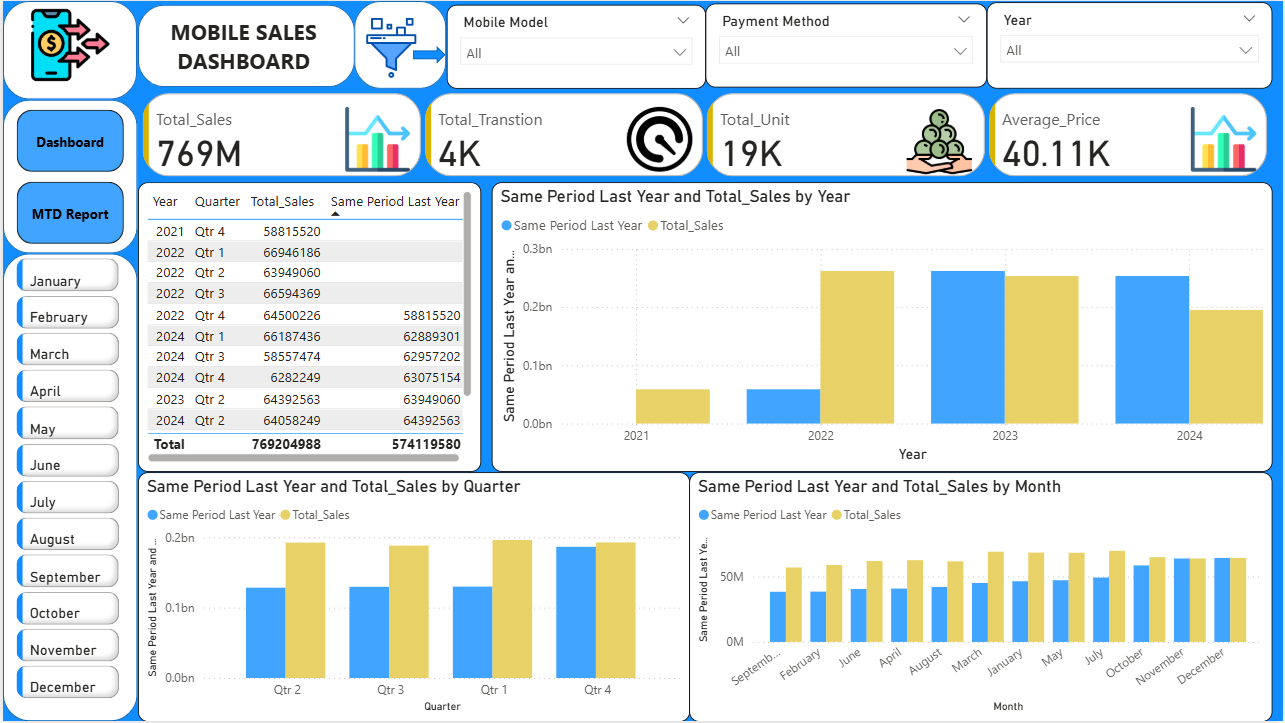

The page's visual inventory and layout, read from the dashboard file:
{"tool":"powerbi","page":{"name":"Same Period Last Year","canvas":[1280,720],"ordinal":2},"visuals":[{"type":"shape","box":[0,0,134.5,98.8],"z":0},{"type":"image","box":[13.7,0,107,87.8],"z":1000},{"type":"shape","box":[0,98.8,134.5,153.7],"z":2000},{"type":"cardVisual","fields":{"Data":["Sales_Data.Total_Sales","Sales_Data.Total_Transtion","Sales_Data.Total_Unit","Sales_Data.Average_Price"]},"box":[134.5,87.8,1134.8,93.3],"z":3000},{"type":"slicer","fields":{"Values":["Sales_Data.Mobile Model"]},"box":[443.2,4.1,259.3,83.7],"z":4000},{"type":"shape","box":[134.5,4.1,216.8,82.3],"z":5000},{"type":"slicer","fields":{"Values":["Sales_Data.Payment Method"]},"box":[702.6,2.7,281.3,83.7],"z":6000},{"type":"slicer","fields":{"Values":["Custom_Calender.Date.Variation.Date Hierarchy.Year"]},"box":[983.9,1.4,285.4,86.4],"z":7000},{"type":"shape","box":[351.3,0,91.9,87.8],"z":8000},{"type":"image","box":[348.5,11,79.6,71.4],"z":9000},{"type":"shape","box":[410.3,45.3,32.9,17.8],"z":10000},{"type":"textbox","box":[148.2,11,183.9,71.4],"z":11000},{"type":"shape","box":[0,252.5,134.5,467.9],"z":12000},{"type":"advancedSlicerVisual","fields":{"Values":["Custom_Calender.Date.Variation.Date Hierarchy.Month"]},"box":[8.2,252.5,112.5,458.3],"z":13000},{"type":"tableEx","fields":{"Values":["Custom_Calender.Date.Variation.Date Hierarchy.Year","Custom_Calender.Date.Variation.Date Hierarchy.Quarter","Sales_Data.Total_Sales","Sales_Data.Same Period Last Year"]},"box":[134.5,181.1,343.1,289.5],"z":14000},{"type":"clusteredColumnChart","fields":{"Category":["Custom_Calender.Date.Variation.Date Hierarchy.Year","Custom_Calender.Date.Variation.Date Hierarchy.Quarter"],"Y":["Sales_Data.Same Period Last Year","Sales_Data.Total_Sales"]},"box":[488.5,181.1,780.8,289.5],"z":15000},{"type":"clusteredColumnChart","fields":{"Category":["Custom_Calender.Date.Variation.Date Hierarchy.Quarter"],"Y":["Sales_Data.Same Period Last Year","Sales_Data.Total_Sales"]},"box":[134.5,470.7,551.6,249.7],"z":16000},{"type":"clusteredColumnChart","fields":{"Y":["Sales_Data.Same Period Last Year","Sales_Data.Total_Sales"],"Category":["Custom_Calender.Date.Variation.Date Hierarchy.Month"]},"box":[686.1,470.7,583.2,249.7],"z":17000},{"type":"pageNavigator","box":[13.7,108.4,107,134.5],"z":18000}]}

Visuals, with their boxes in screenshot pixels (x1, y1, x2, y2), scaled from the page's 1280x720 canvas onto the 1285x723 screenshot:
shape: [0,0,135,99]
image: [14,0,121,88]
shape: [0,99,135,254]
cardVisual - Sales_Data.Total_Sales x Sales_Data.Total_Transtion: [135,88,1274,182]
slicer - Sales_Data.Mobile Model: [445,4,705,88]
shape: [135,4,353,87]
slicer - Sales_Data.Payment Method: [705,3,988,87]
slicer - Custom_Calender.Date.Variation.Date Hierarchy.Year: [988,1,1274,88]
shape: [353,0,445,88]
image: [350,11,430,83]
shape: [412,45,445,63]
textbox: [149,11,333,83]
shape: [0,254,135,722]
advancedSlicerVisual - Custom_Calender.Date.Variation.Date Hierarchy.Month: [8,254,121,714]
tableEx - Custom_Calender.Date.Variation.Date Hierarchy.Year x Custom_Calender.Date.Variation.Date Hierarchy.Quarter: [135,182,479,473]
clusteredColumnChart - Custom_Calender.Date.Variation.Date Hierarchy.Year x Custom_Calender.Date.Variation.Date Hierarchy.Quarter: [490,182,1274,473]
clusteredColumnChart - Custom_Calender.Date.Variation.Date Hierarchy.Quarter x Sales_Data.Same Period Last Year: [135,473,689,722]
clusteredColumnChart - Sales_Data.Same Period Last Year x Sales_Data.Total_Sales: [689,473,1274,722]
pageNavigator: [14,109,121,244]
